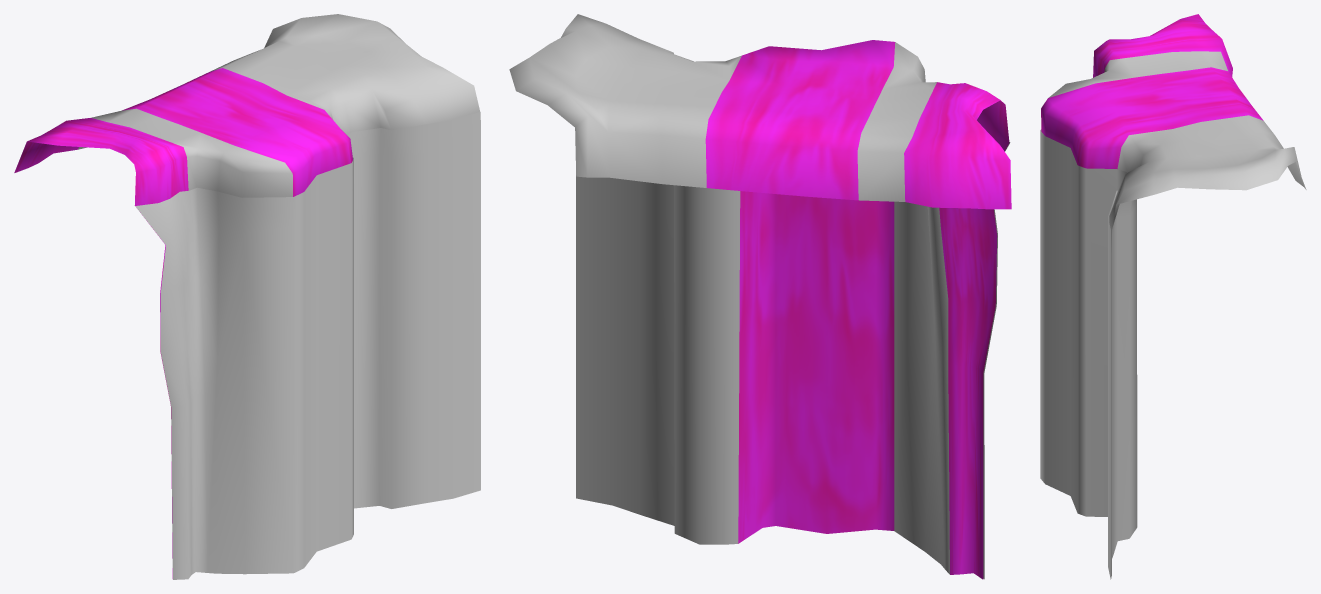
The model's file is env_bosstrain_lavafall02.fbx.
The picture shows the model from 3 angles, left to right: view 1: azimuth 30°, elevation 25°; view 2: azimuth 150°, elevation 25°; view 3: azimuth 270°, elevation 25°; orthographic projection. The views are drawn at different scales.
Visible parts, largest first — view 1: env_bosstrain_lavafall02; view 2: env_bosstrain_lavafall02; view 3: env_bosstrain_lavafall02.
Part boxes in pixels (x1,y1,x2,y2): env_bosstrain_lavafall02: [14, 14, 480, 579]; env_bosstrain_lavafall02: [509, 14, 1011, 579]; env_bosstrain_lavafall02: [1040, 14, 1306, 579].
Bounding box in the file's own units: 477 × 468 × 288.
